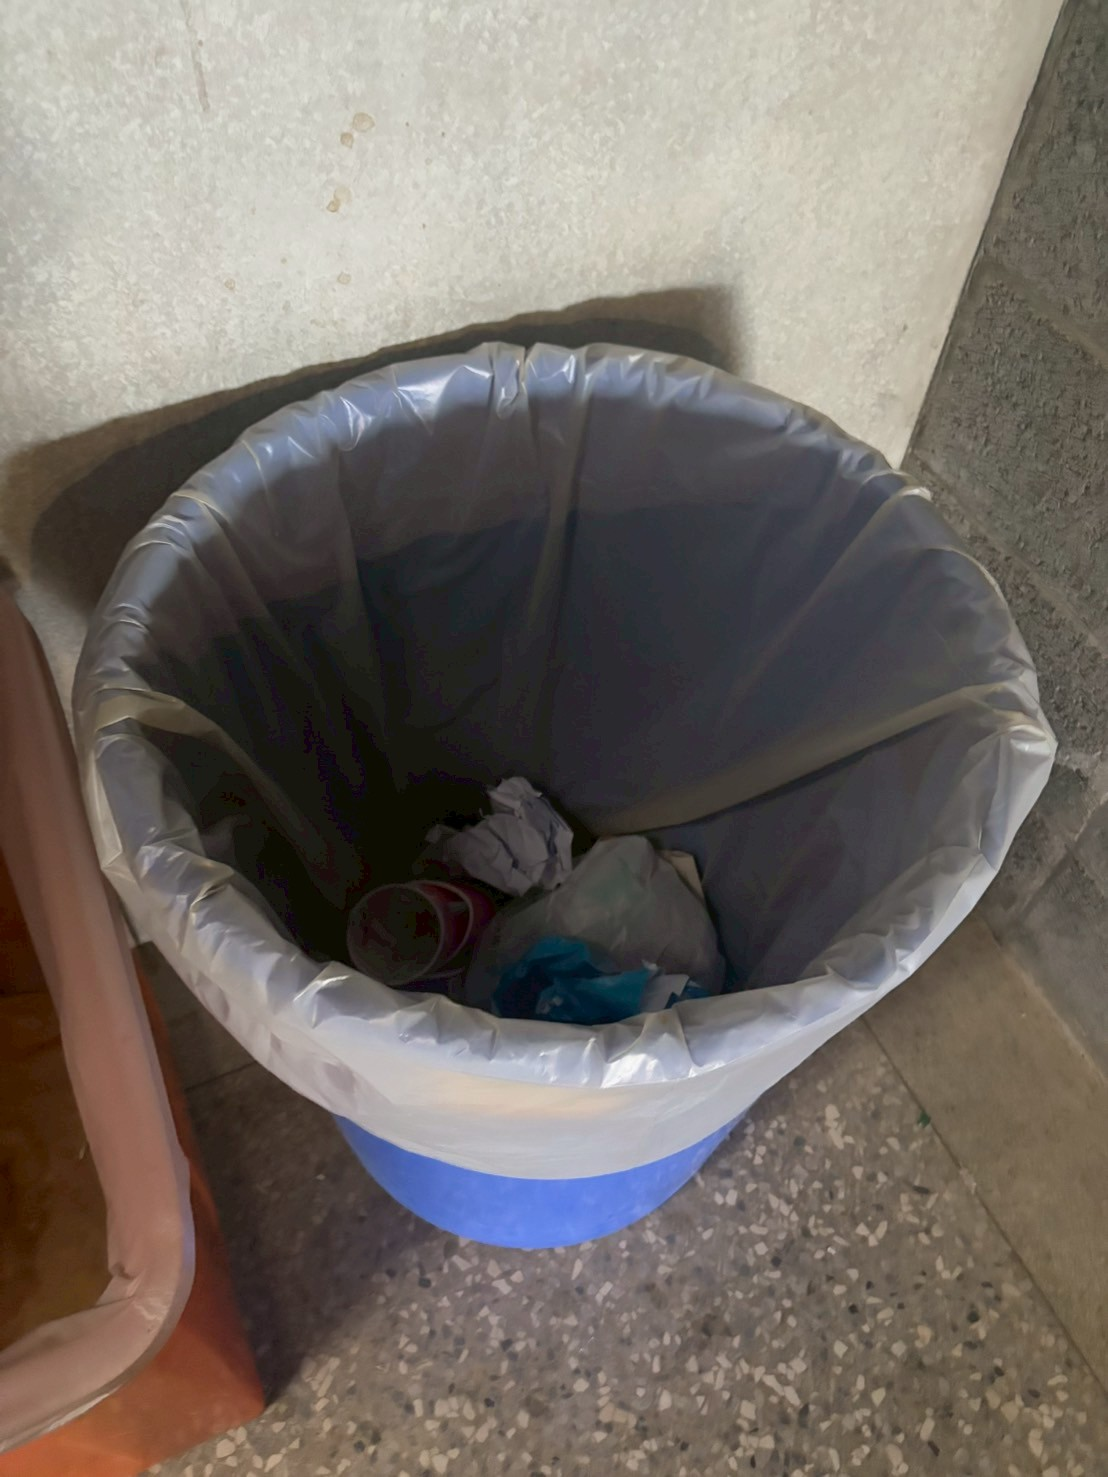normal_bin: (48, 305, 1075, 1270)
